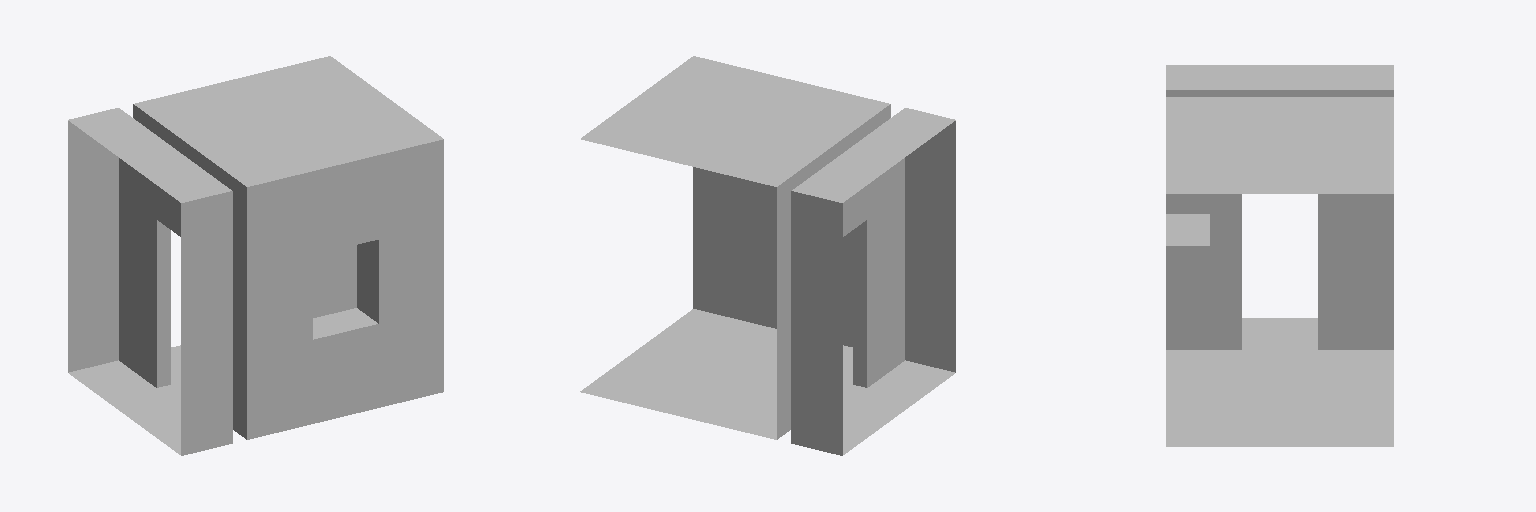
The model's file is new_state.obj.
The picture shows the model from 3 angles: view 1: azimuth 30°, elevation 25°; view 2: azimuth 150°, elevation 25°; view 3: azimuth 270°, elevation 25°; orthographic projection.
Visible parts, largest first — view 1: New_state; view 2: New_state; view 3: New_state.
Boxes of the visible parts, <box> form: New_state: <box>68,56,443,455</box>; New_state: <box>580,56,955,455</box>; New_state: <box>1166,65,1393,446</box>.
Bounding box in the file's own units: 2.67 × 2.45 × 2.